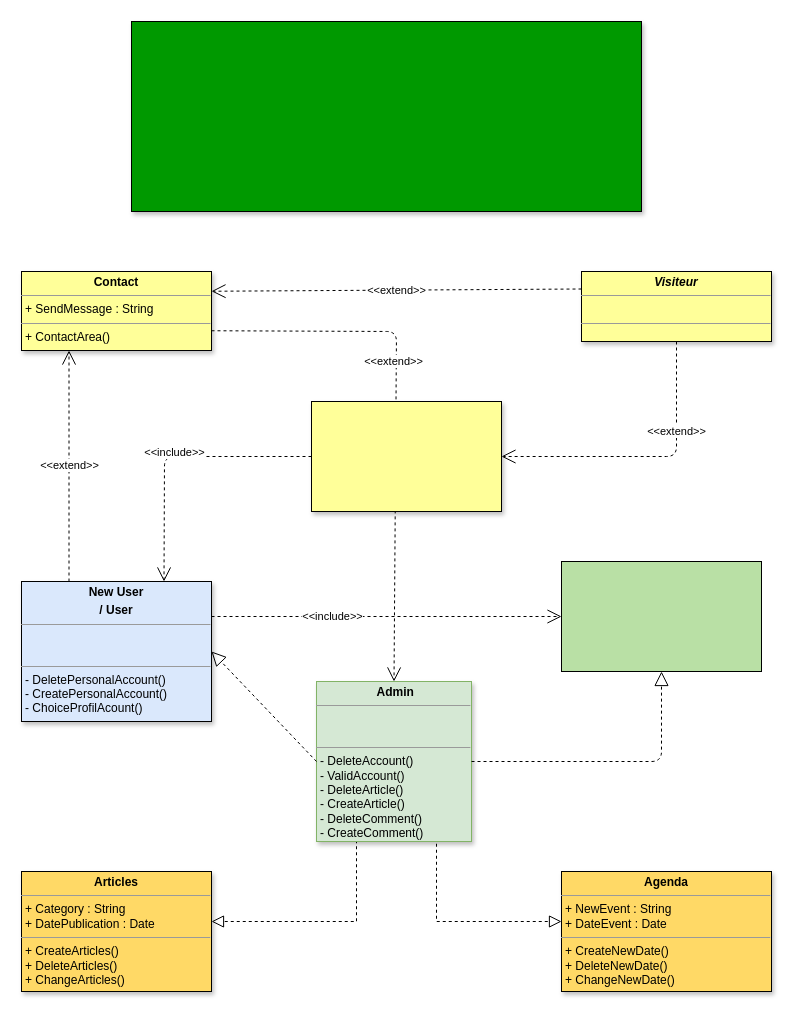
This 795x1016 diagram has some shape labels left out. The centre of each missing label's shape, as x and y in pixels:
"Classe diagrams" belongs at (387,117).
"Comments + NewComment + DeleteComment + ChangeComment" belongs at (661,616).
"Register/ Login + Etat civil : String - Register() - Login()" belongs at (407,457).
